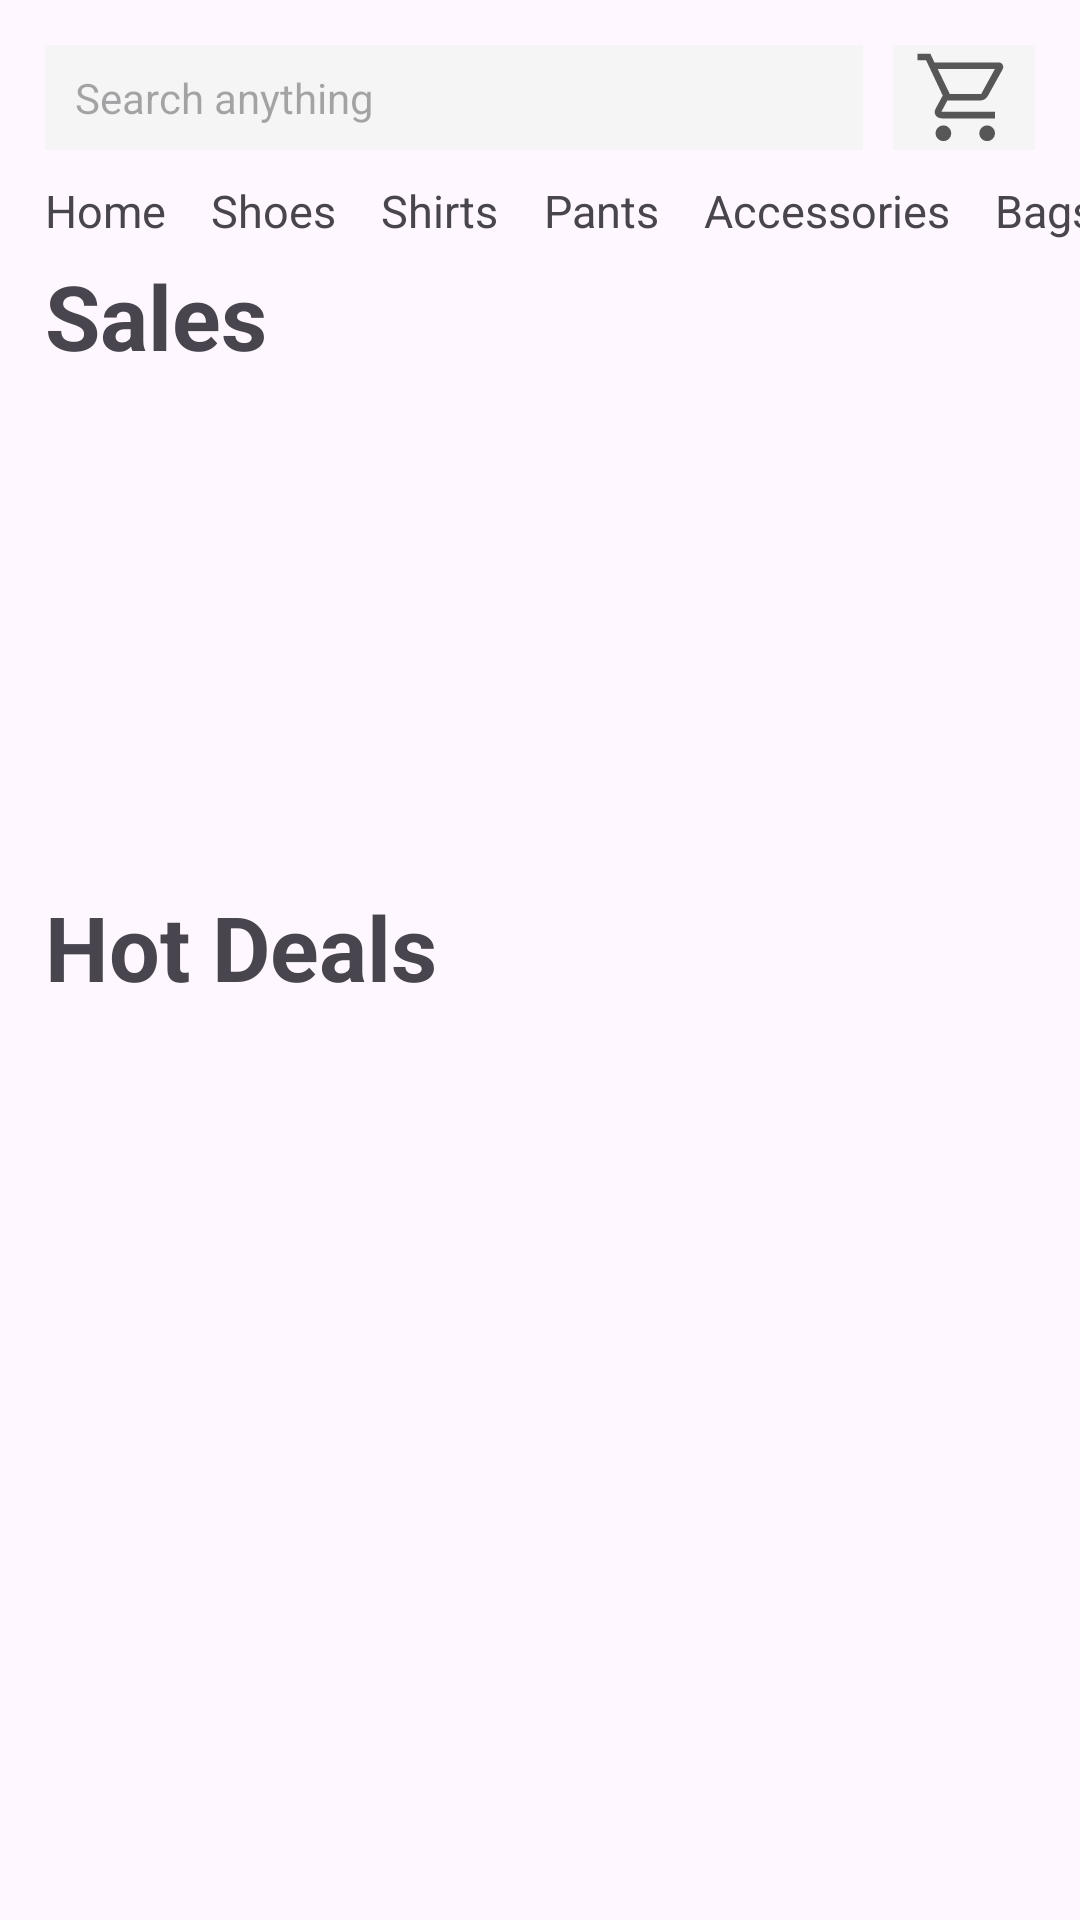

Named icons in this screenshot (1080 × 1920) and their bounding boxes, (x1, y1, x2, y2):
shopping cart: (893, 45, 1035, 150)
